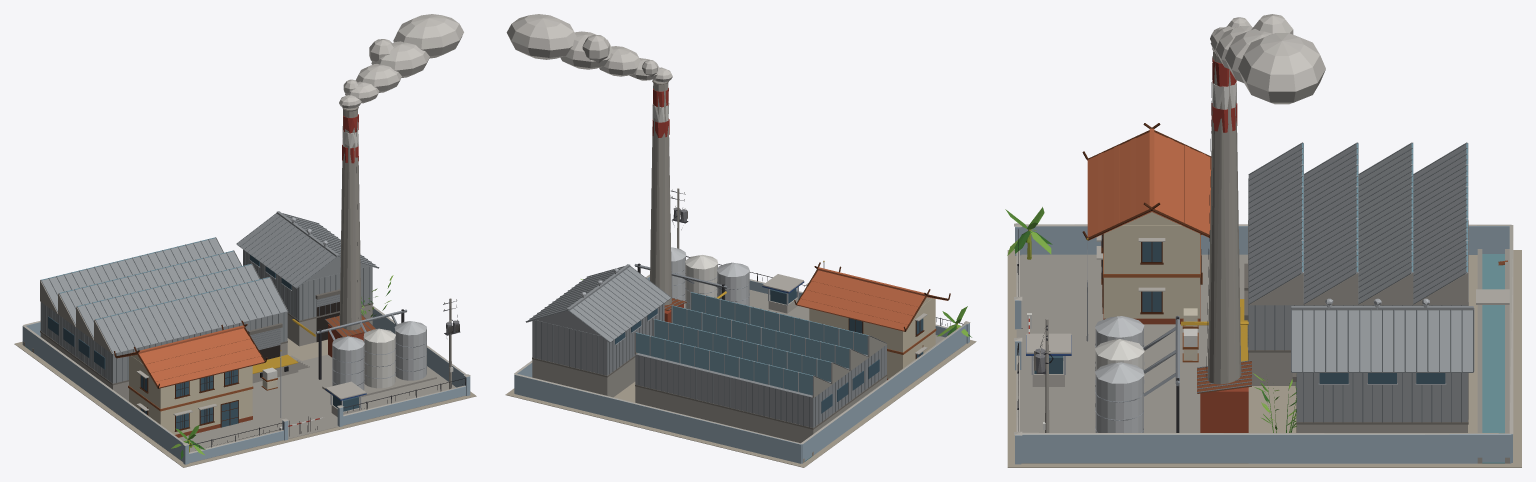
File: factory_4.glb
3 renders of one model, left to right at view 1: azimuth 30°, elevation 25°; view 2: azimuth 150°, elevation 25°; view 3: azimuth 270°, elevation 25°, orthographic. The views are drawn at different scales.
Visible parts, largest first — view 1: body, windows; view 2: body, windows; view 3: body, windows.
Part boxes in pixels (x1,y1,x2,y2): body: (14,14,476,467); windows: (48,255,358,429); body: (505,14,976,467); windows: (615,288,923,413); body: (1005,14,1521,467); windows: (1034,242,1445,432).
Bounding box in the file's own units: 40.15 × 31.39 × 32.07.
